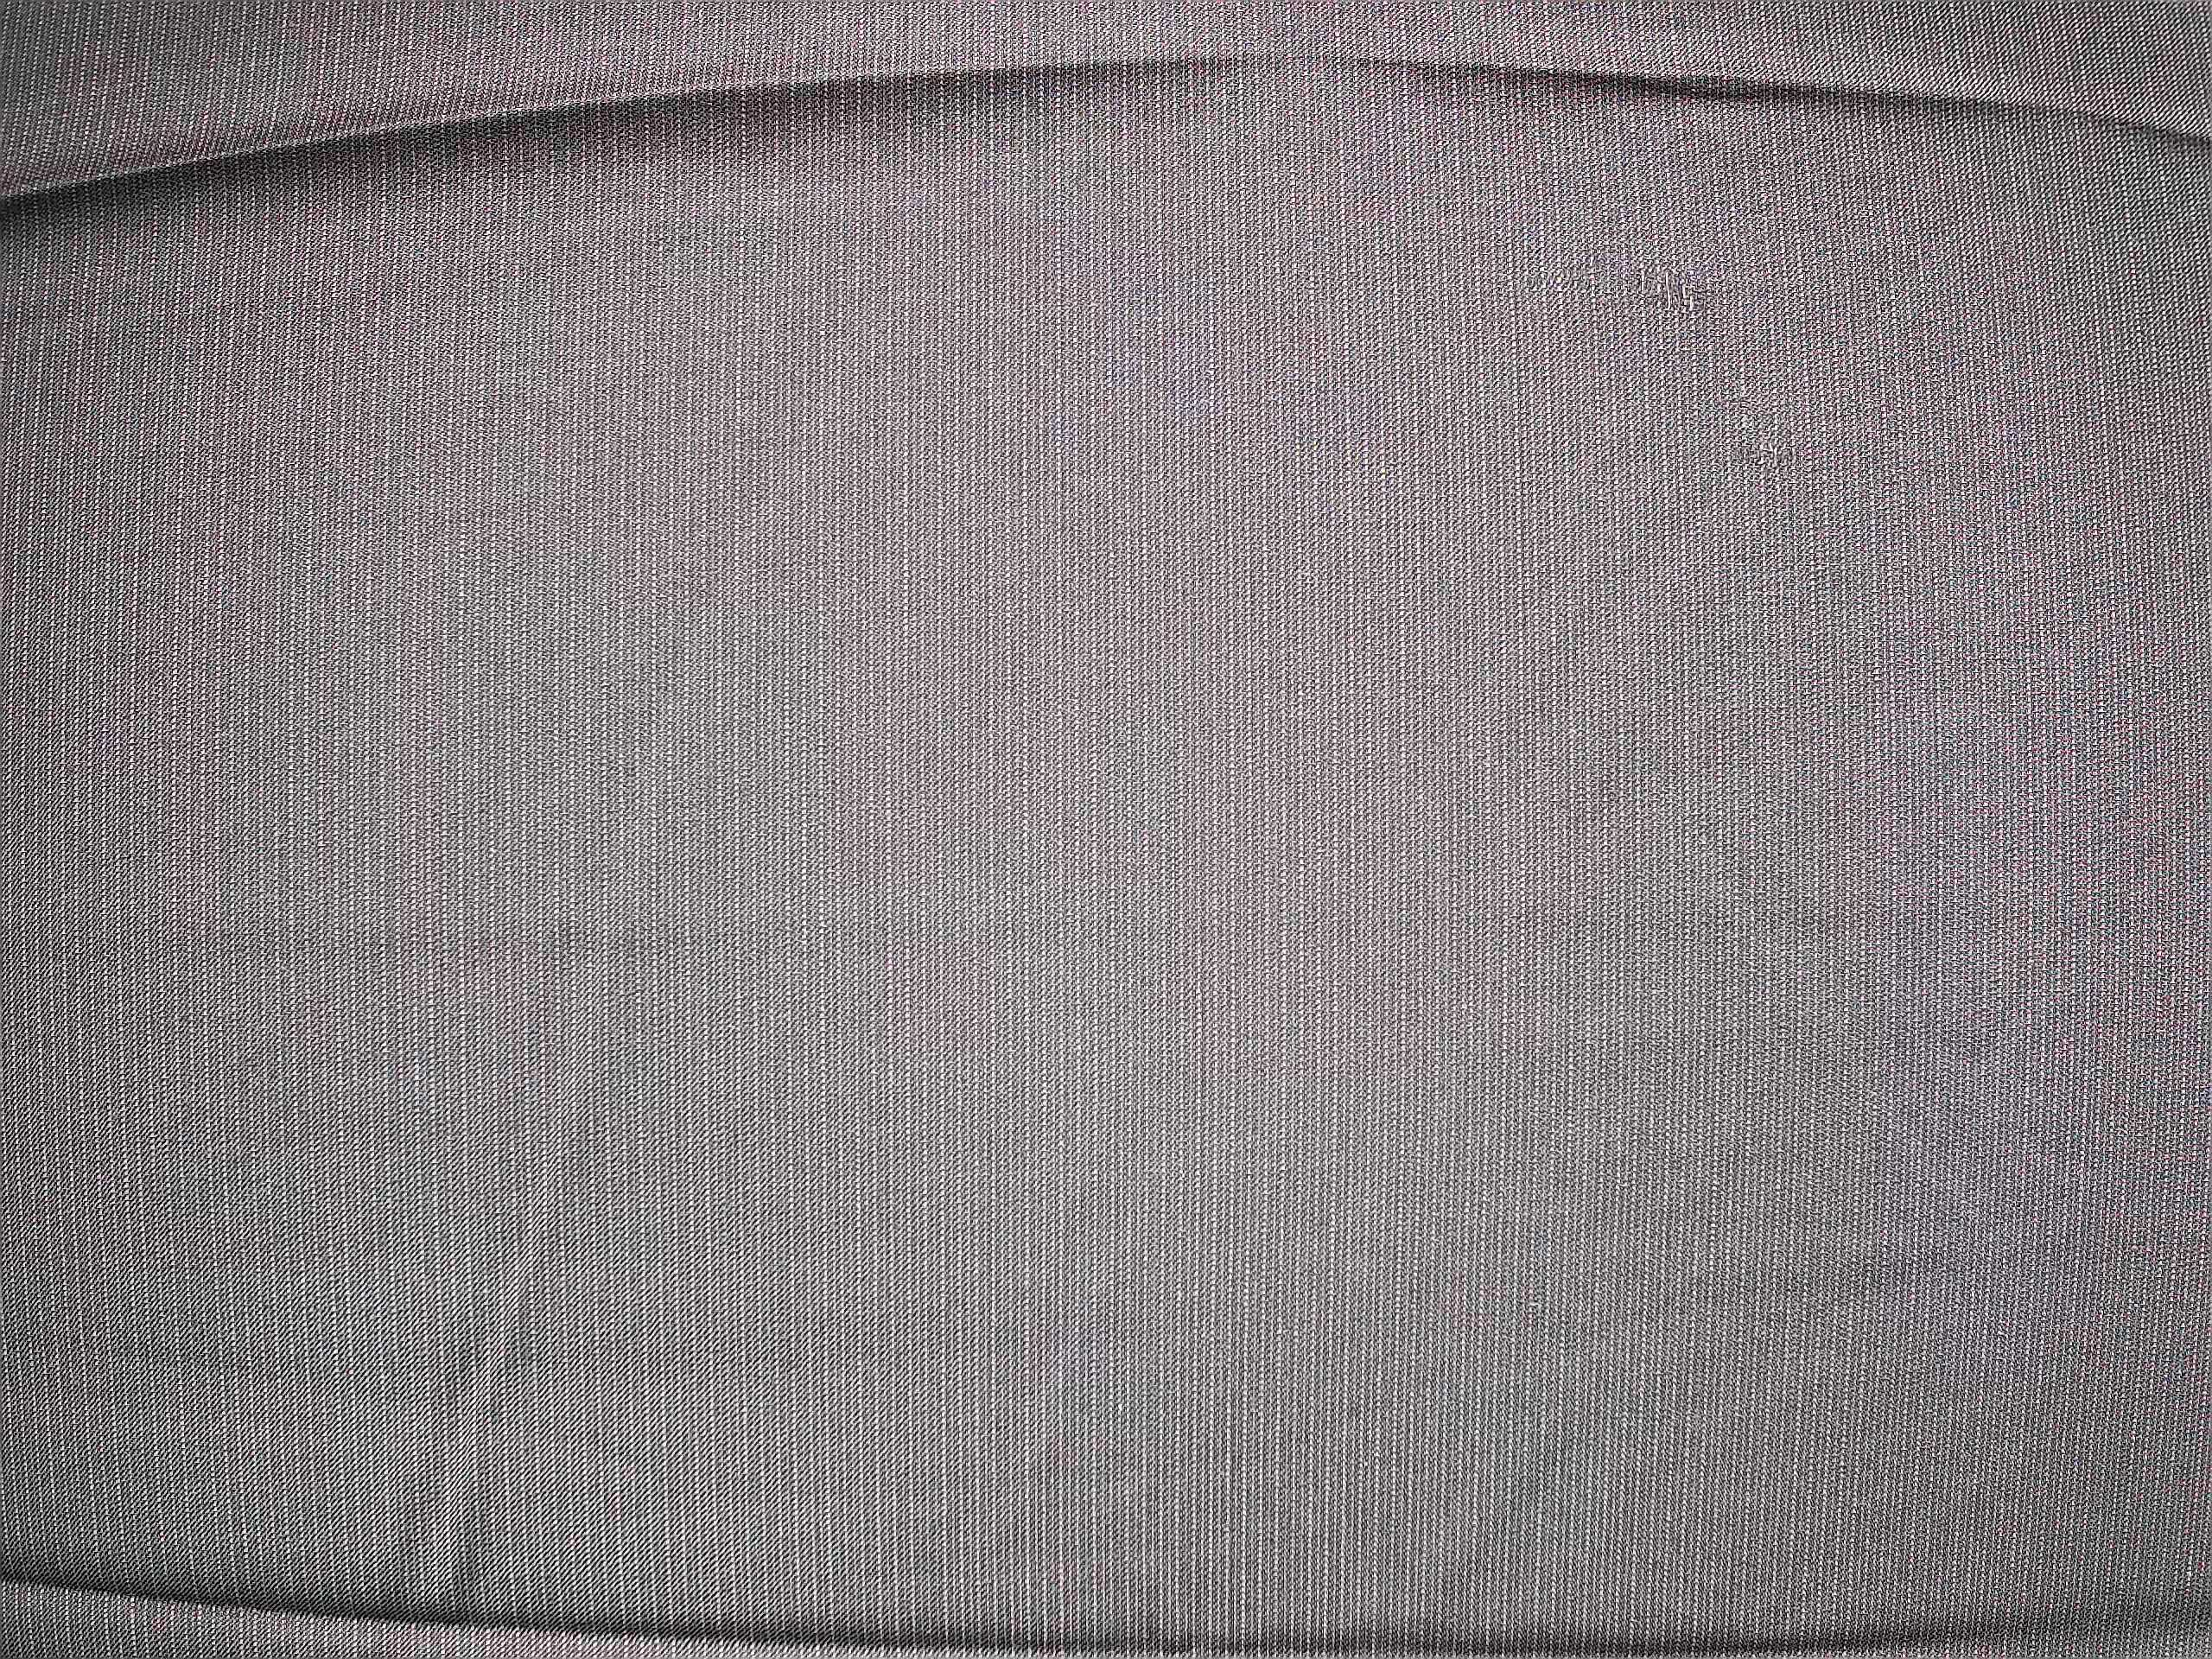rubbing-hole: (1620, 247, 1728, 343), (1723, 416, 1811, 493)
